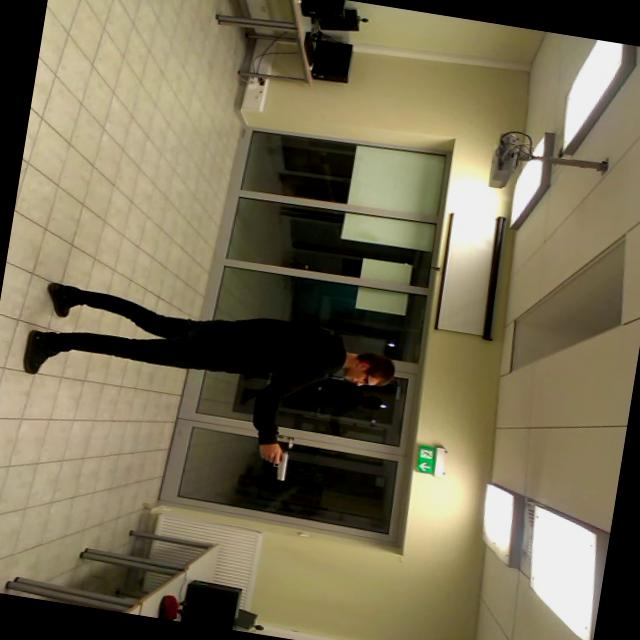handgun: (250, 442, 296, 487)
